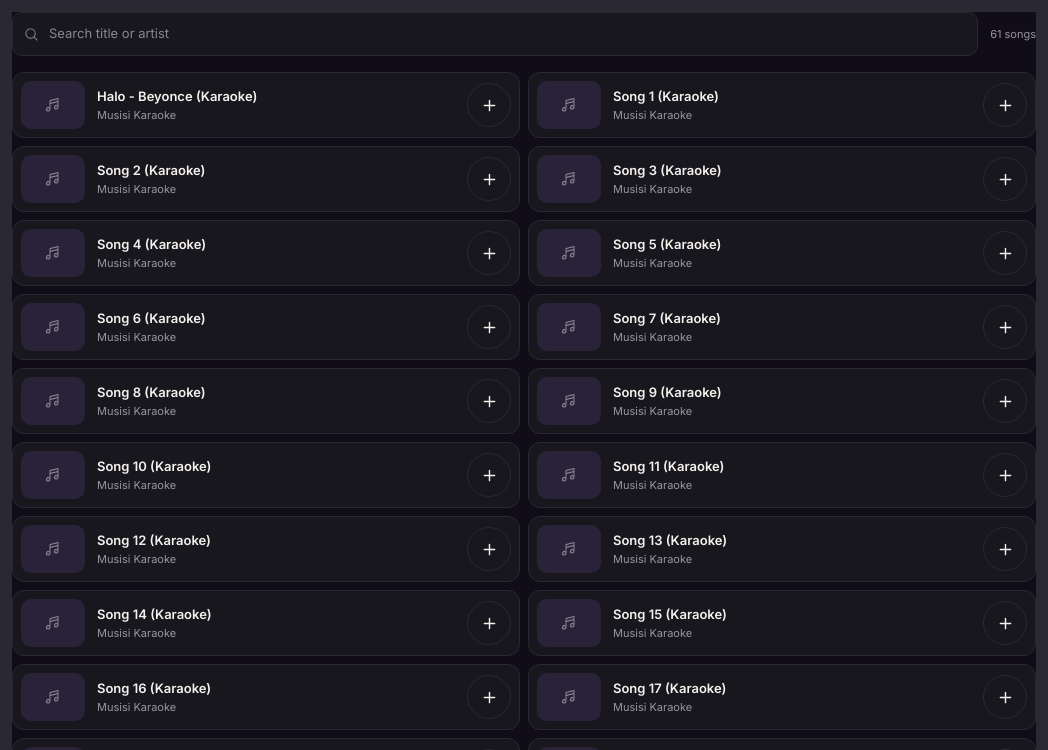
Test: songbook list › keeps the newest results when an older search response lands late
The width and height of the screenshot is (1048, 750).
Expected: the text "Halo - Beyonce (Karaoke)" is shown, [97,88,257,104]
Type "a" into the field named "search the songbook" at (495, 34), box [12,12,978,56]
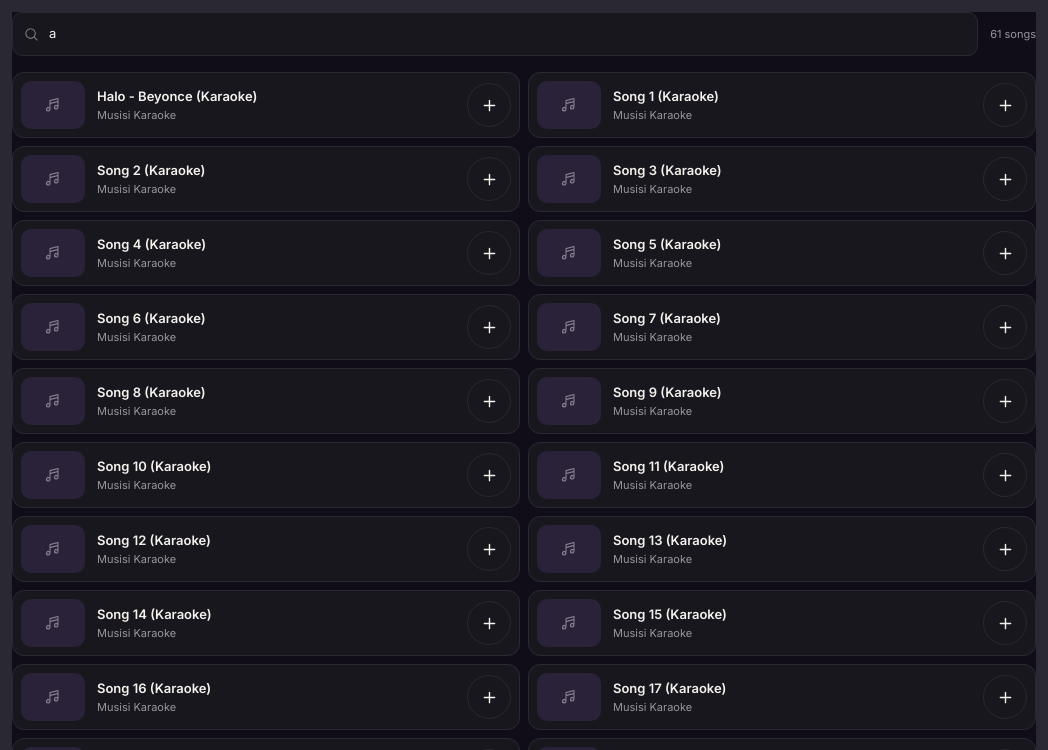
Expected: the text "Halo - Beyonce (Karaoke)" is shown, [97,88,257,104]
Replace the text in the field named "search the songbook" with "ab" at (495, 34), box [12,12,978,56]
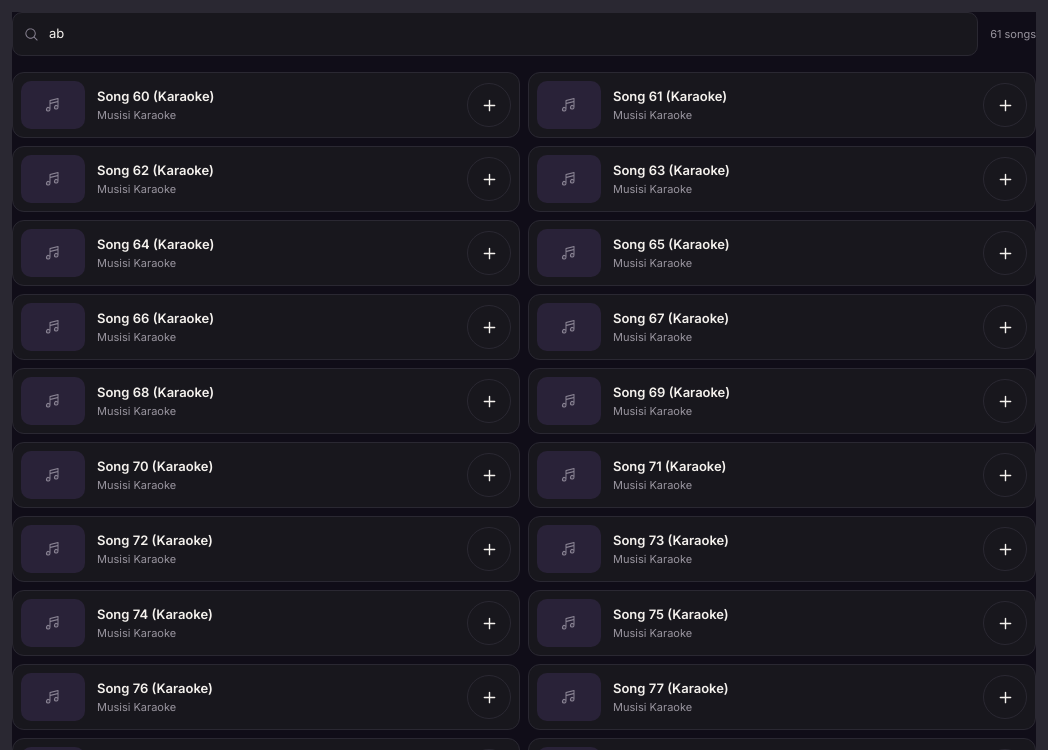
Result: the text "Song 60 (Karaoke)" is shown at [97,88,214,104]
